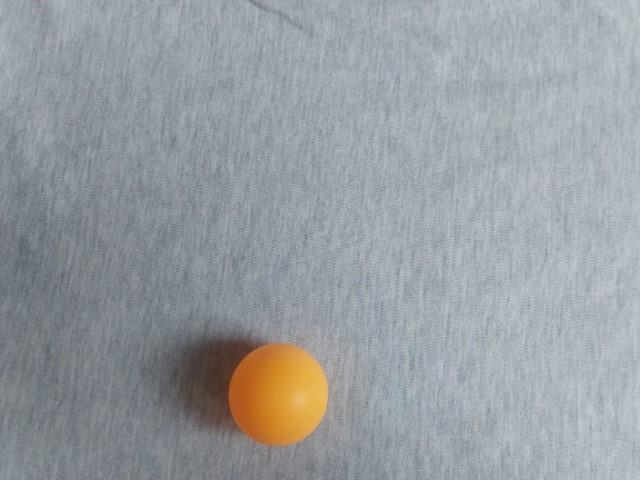oball: (299, 26, 419, 145)
